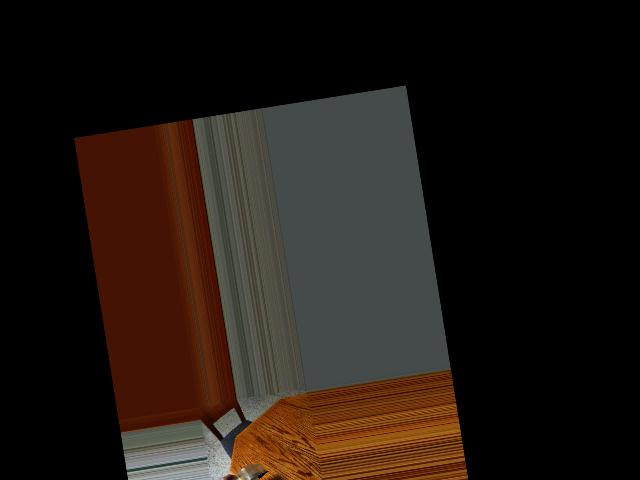cheese: (223, 461, 269, 480)
